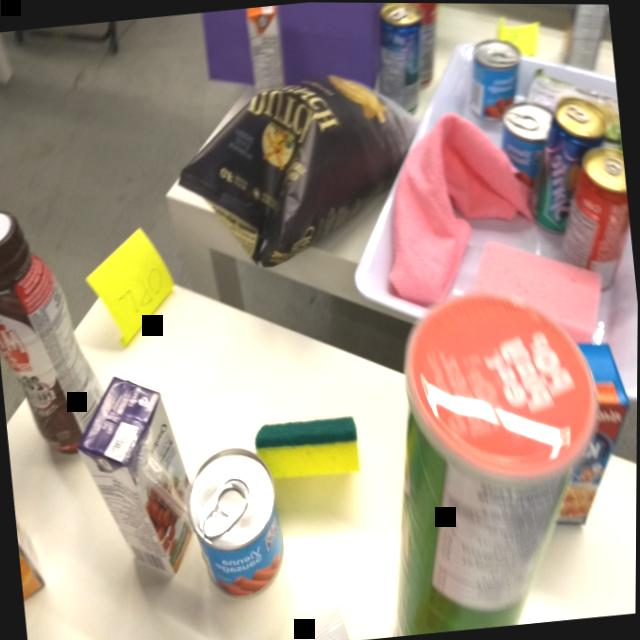chocolate_drink: (0, 188, 113, 463)
coke: (552, 143, 636, 287), (401, 2, 447, 90)
grape_juice: (66, 364, 203, 592)
orange_juice: (236, 4, 292, 99)
potato_chips: (167, 67, 439, 278)
pringles: (359, 276, 621, 637)
sausages: (179, 439, 292, 606), (458, 31, 530, 122), (493, 98, 554, 186)
scrubby: (250, 409, 364, 484)
sprite: (519, 100, 613, 234), (365, 2, 431, 114)
